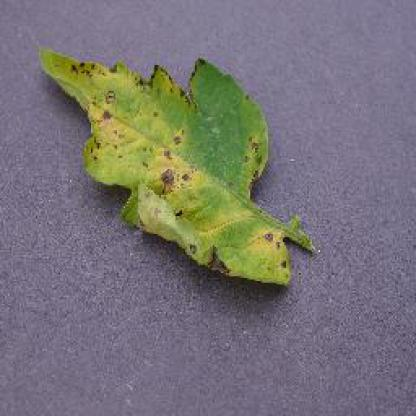bad leaf: (146, 220, 250, 288), (65, 116, 152, 194), (31, 30, 111, 107), (135, 136, 215, 207), (109, 58, 218, 110), (228, 114, 277, 214), (249, 208, 292, 303)
